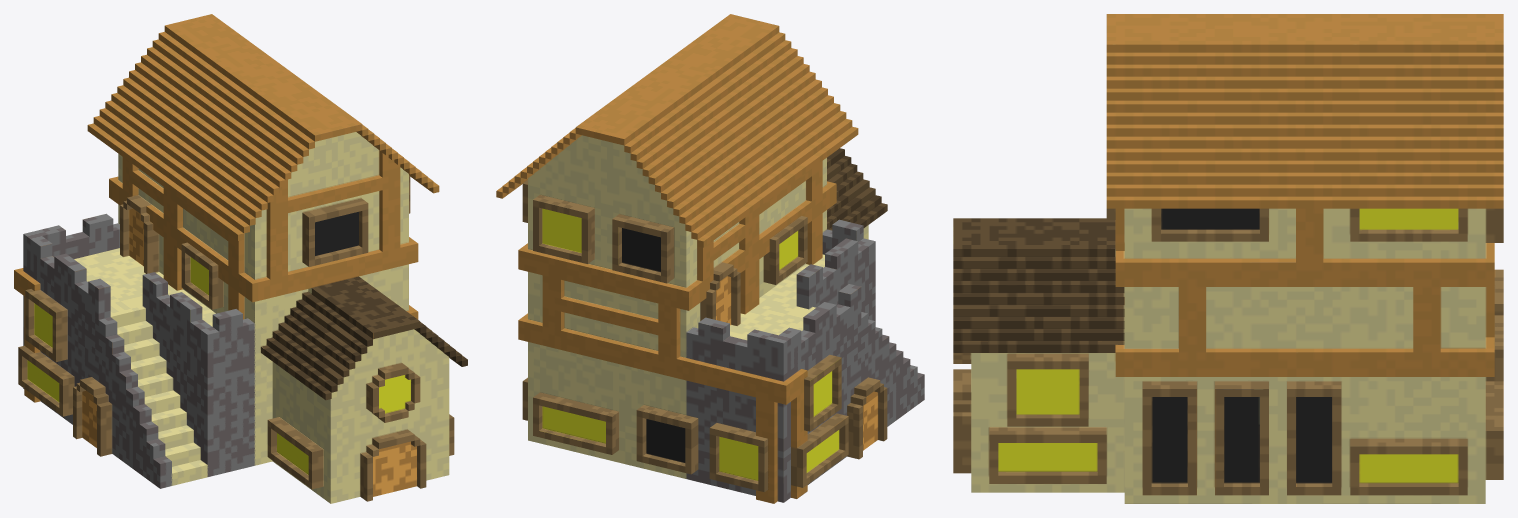
The model's file is House_2.obj.
3 renders of one model, left to right at view 1: azimuth 30°, elevation 25°; view 2: azimuth 150°, elevation 25°; view 3: azimuth 270°, elevation 25°, orthographic. The views are drawn at different scales.
Visible parts, largest first — view 1: House_2_Medieval_Assets-22.001; view 2: House_2_Medieval_Assets-22.001; view 3: House_2_Medieval_Assets-22.001.
Part boxes in pixels (x1,y1,x2,y2): House_2_Medieval_Assets-22.001: (14, 14, 467, 503); House_2_Medieval_Assets-22.001: (496, 14, 924, 503); House_2_Medieval_Assets-22.001: (953, 14, 1503, 503).
Size of the model in its own units: 4.8 by 5.2 by 6.1.
1 material, 1 textured.
